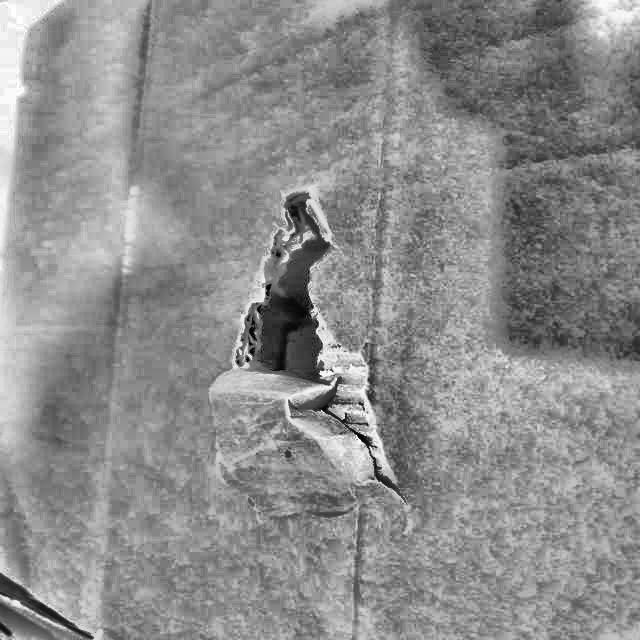box: (1, 0, 640, 640)
hole: (206, 181, 402, 501)
